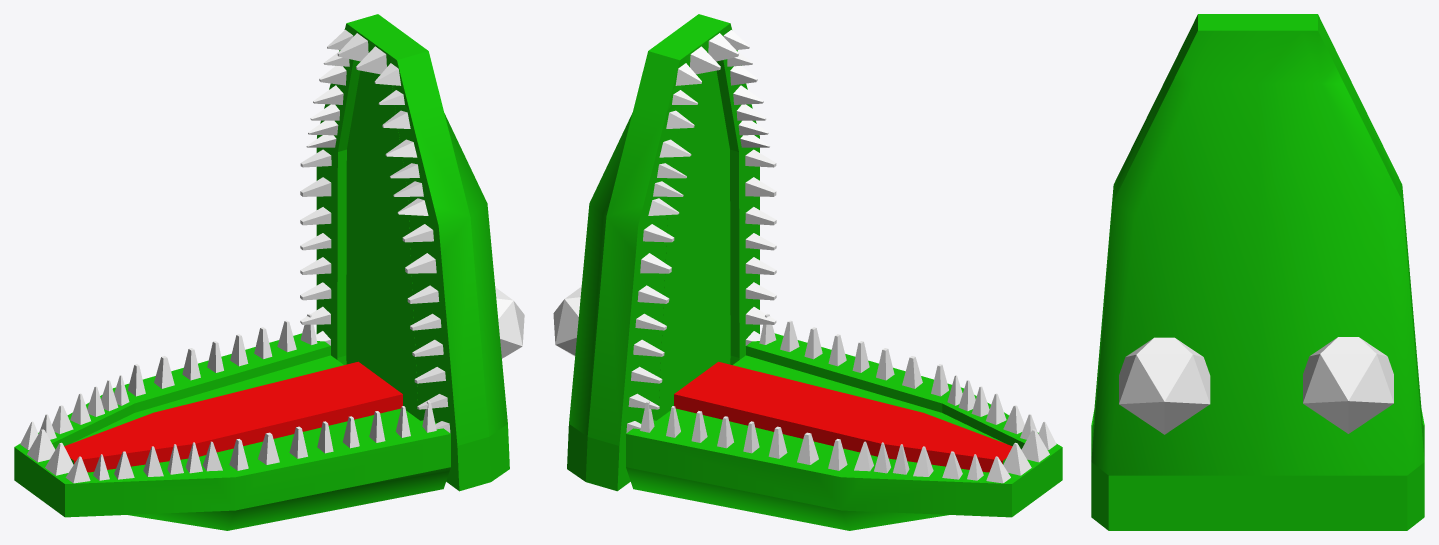
File: Croco1.FBX
The picture shows the model from 3 angles, left to right: view 1: azimuth 30°, elevation 25°; view 2: azimuth 150°, elevation 25°; view 3: azimuth 270°, elevation 25°; orthographic projection. The views are drawn at different scales.
Parts seen in each view (by area): view 1: Box002, Box001; view 2: Box002, Box001; view 3: Box002.
Part boxes in pixels (x1=…): Box002: x1=300, y1=14, x2=524, y2=491; Box001: x1=14, y1=313, x2=450, y2=530; Box002: x1=553, y1=14, x2=776, y2=491; Box001: x1=626, y1=313, x2=1062, y2=530; Box002: x1=1091, y1=14, x2=1424, y2=530.
Size of the model in its own units: 27.39 by 23.78 by 14.97.
